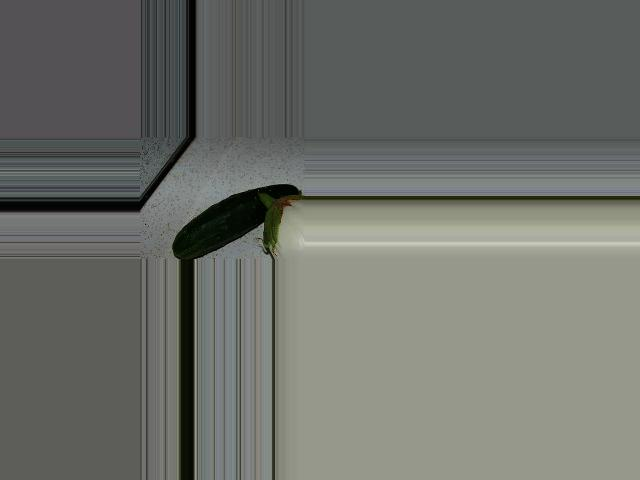cucumber: (172, 185, 301, 260)
